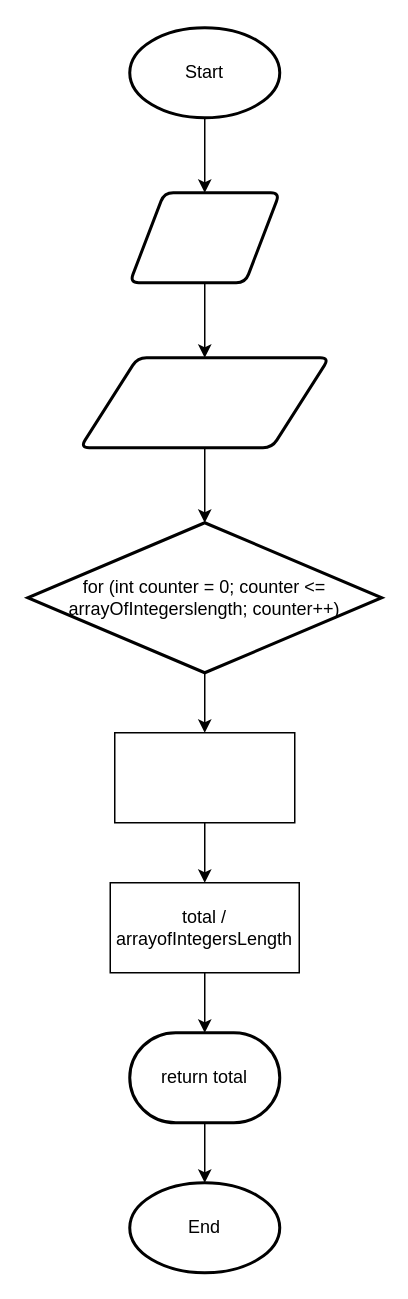
The diagram is 408 pixels wide and 1299 high, and some of its shapes have lost their labels. Each missing label, with the centre of its shape:
Get arrayOfIntegers: the point at 204,237
Get arrayOfIntegersLength: the point at 204,402
total = total + arrayOfIntegers[counter]: the point at 204,777
